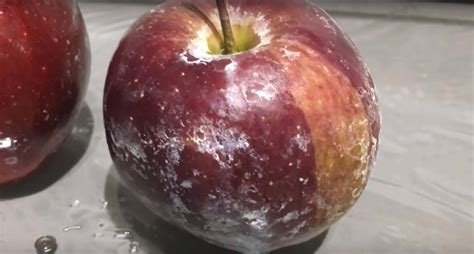apple: (94, 1, 384, 251)
